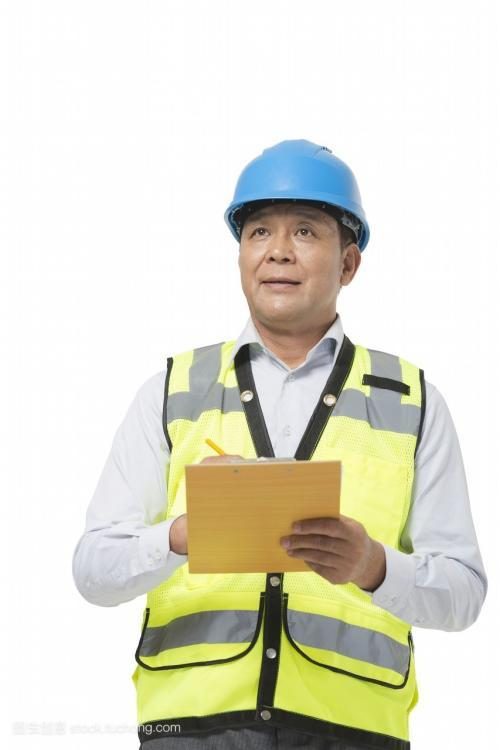helmet: (224, 138, 373, 242)
